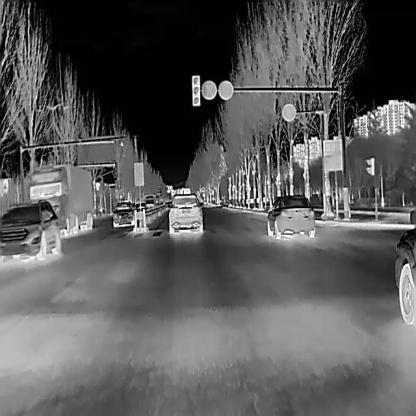car: (0, 197, 59, 259), (265, 192, 315, 239), (166, 191, 203, 233), (110, 201, 134, 226)
truck: (26, 163, 93, 236)
